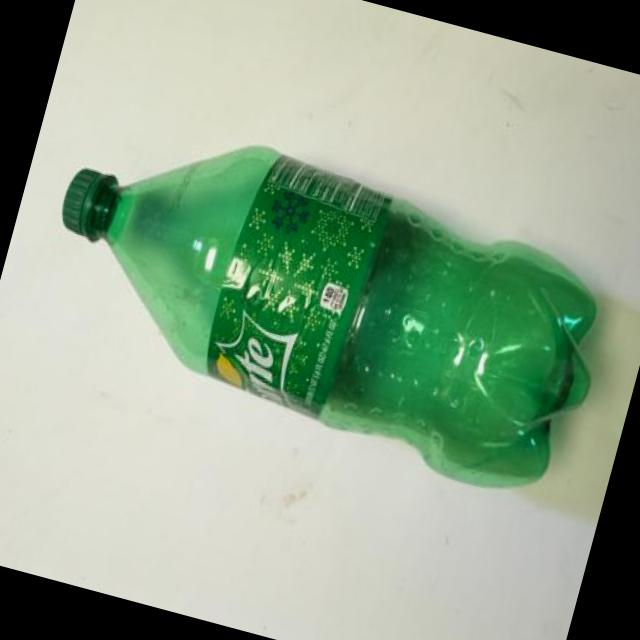Recycle: (18, 98, 632, 509)
